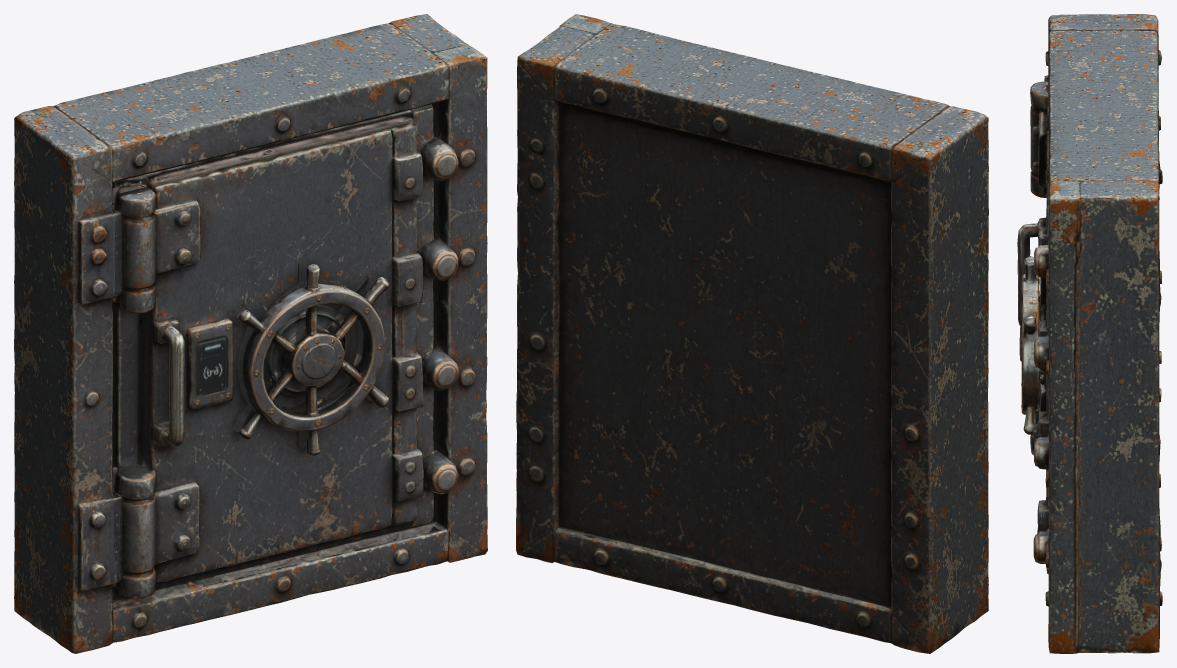
File: BKI_VaultDoor.fbx
3 renders of one model, left to right at view 1: azimuth 30°, elevation 25°; view 2: azimuth 150°, elevation 25°; view 3: azimuth 270°, elevation 25°, orthographic. The views are drawn at different scales.
Parts seen in each view (by area): view 1: texture_mapping; view 2: texture_mapping; view 3: texture_mapping.
Boxes of the visible parts, box(x1,y1,x2,y2) form: texture_mapping: box(14, 14, 487, 653); texture_mapping: box(516, 14, 988, 653); texture_mapping: box(1017, 14, 1162, 653).
Size of the model in its own units: 0.8725 by 0.2882 by 1.
Materials: 1 (1 with a texture image).
